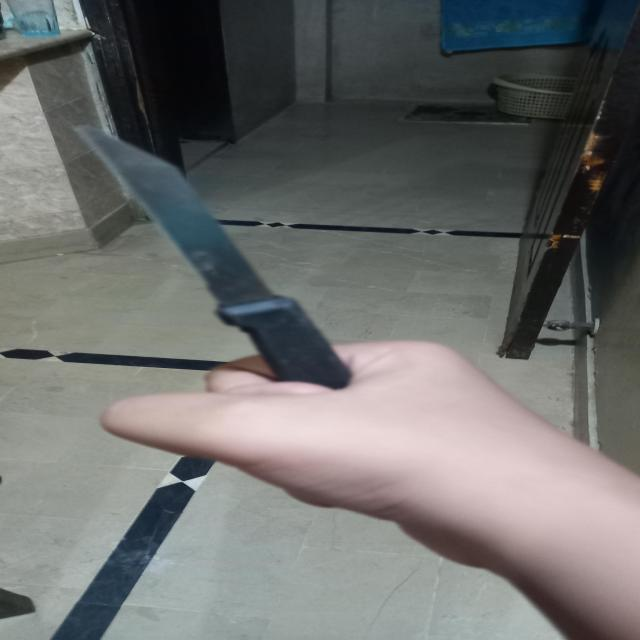Knife: (74, 125, 347, 390)
Person: (105, 338, 640, 639)
